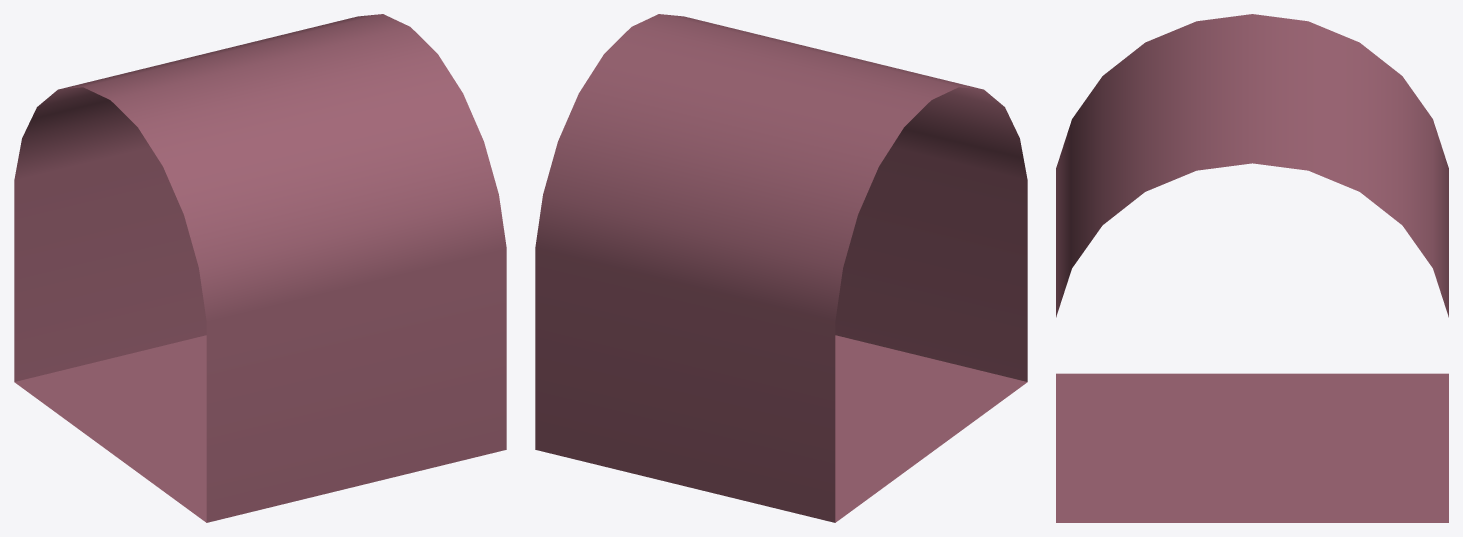
File: mesh_TileTunelMitad.fbx
3 renders of one model, left to right at view 1: azimuth 30°, elevation 25°; view 2: azimuth 150°, elevation 25°; view 3: azimuth 270°, elevation 25°, orthographic. The views are drawn at different scales.
Visible parts, largest first — view 1: TileTunelMitad; view 2: TileTunelMitad; view 3: TileTunelMitad.
Boxes of the visible parts, left/top/right/bottom form: TileTunelMitad: left=14, top=14, right=506, bottom=522; TileTunelMitad: left=535, top=14, right=1027, bottom=522; TileTunelMitad: left=1056, top=14, right=1448, bottom=522.
Size of the model in its own units: 1410 by 1582 by 1566.
